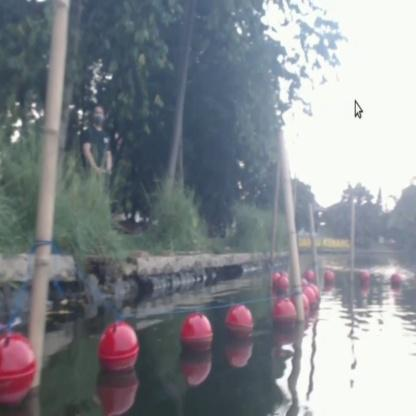red_buoy: (0, 335, 33, 401), (100, 324, 138, 374), (180, 314, 210, 356), (226, 306, 253, 342), (274, 298, 296, 334), (274, 274, 290, 297), (306, 283, 321, 306), (387, 270, 401, 288), (325, 266, 335, 288)
